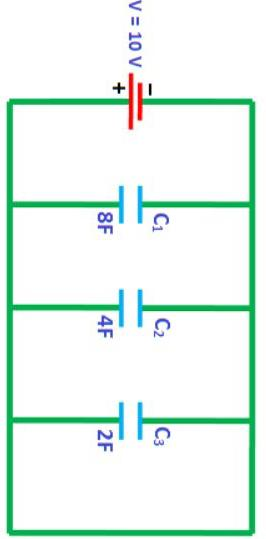Capacitor: (103, 161, 151, 237)
